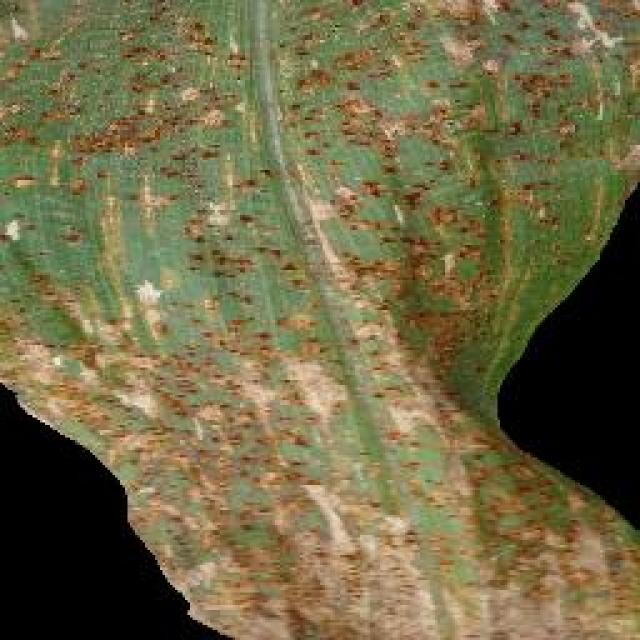Corn Common Rust: (108, 118, 530, 630), (530, 630, 640, 640)
